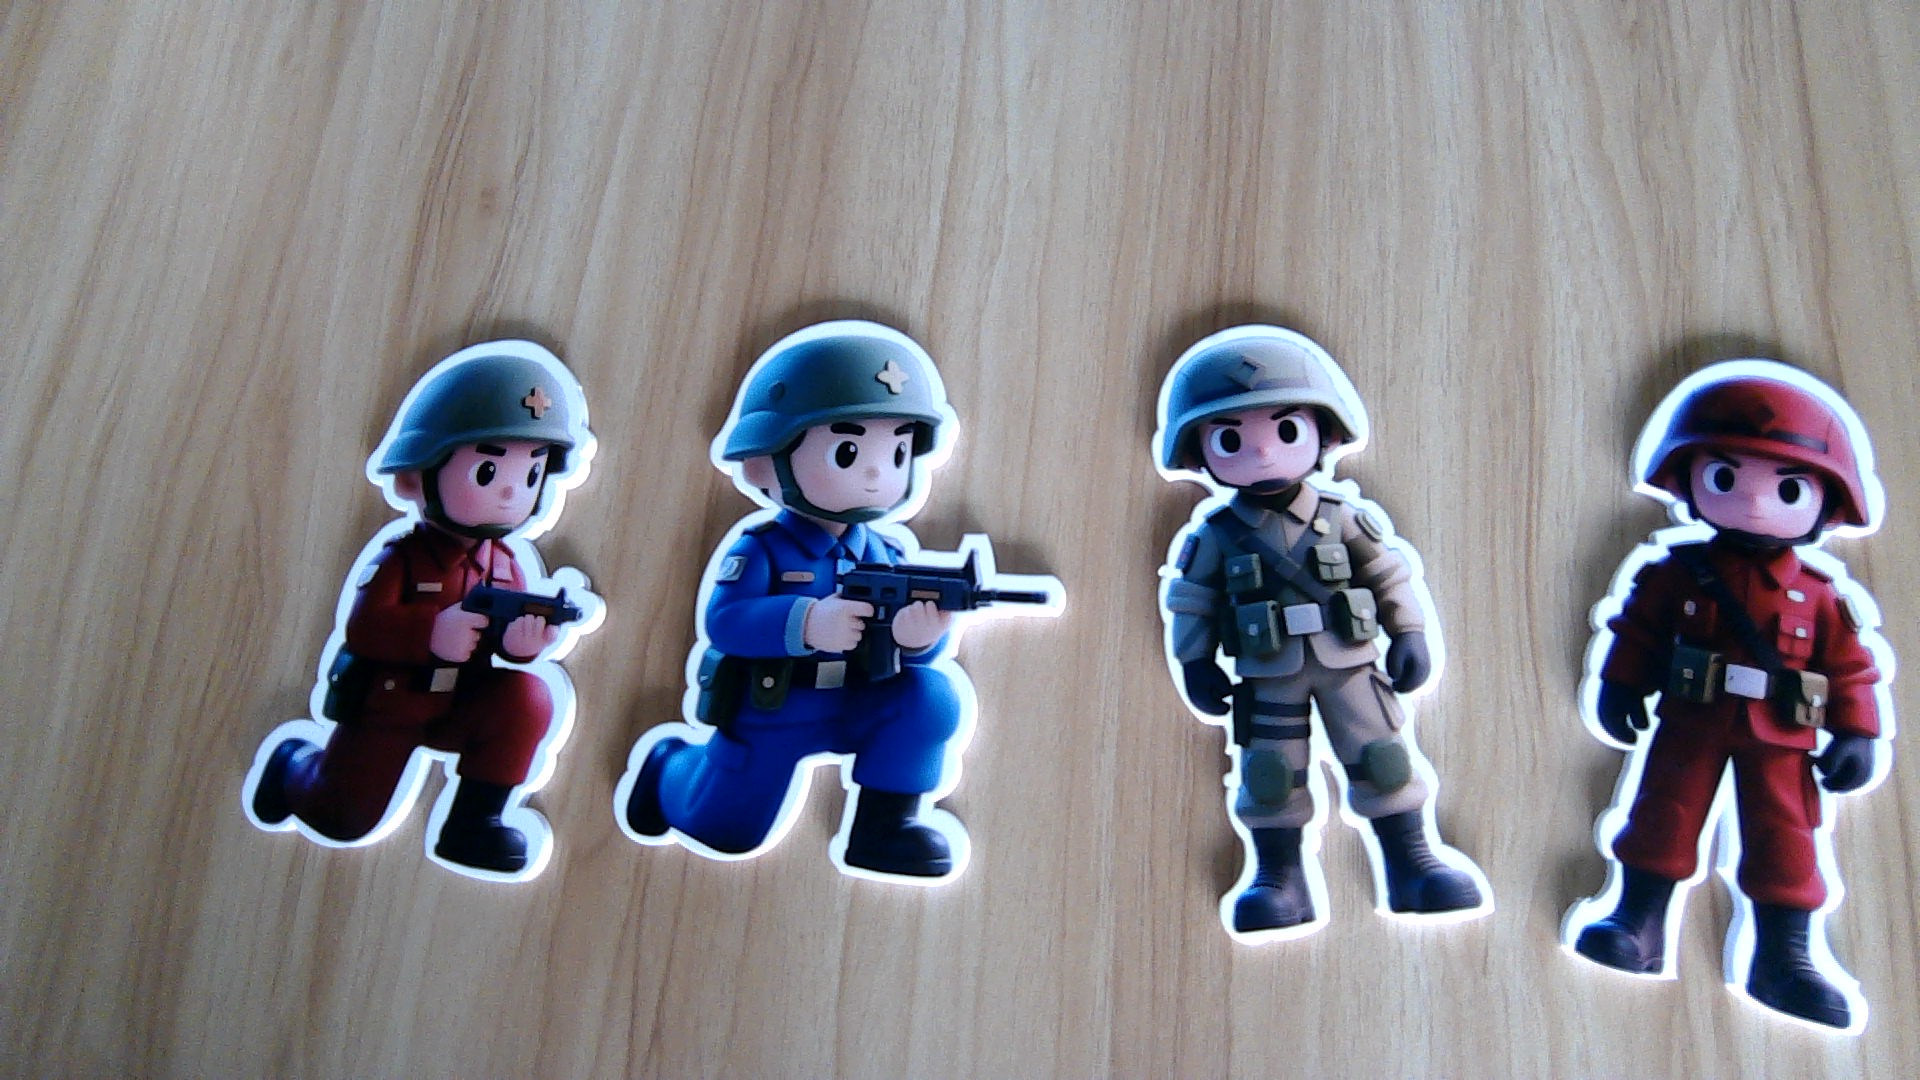友军: (1149, 487, 1499, 936)
敌人1: (1568, 513, 1902, 1048), (236, 520, 608, 885)
敌人2: (603, 513, 1076, 903)
